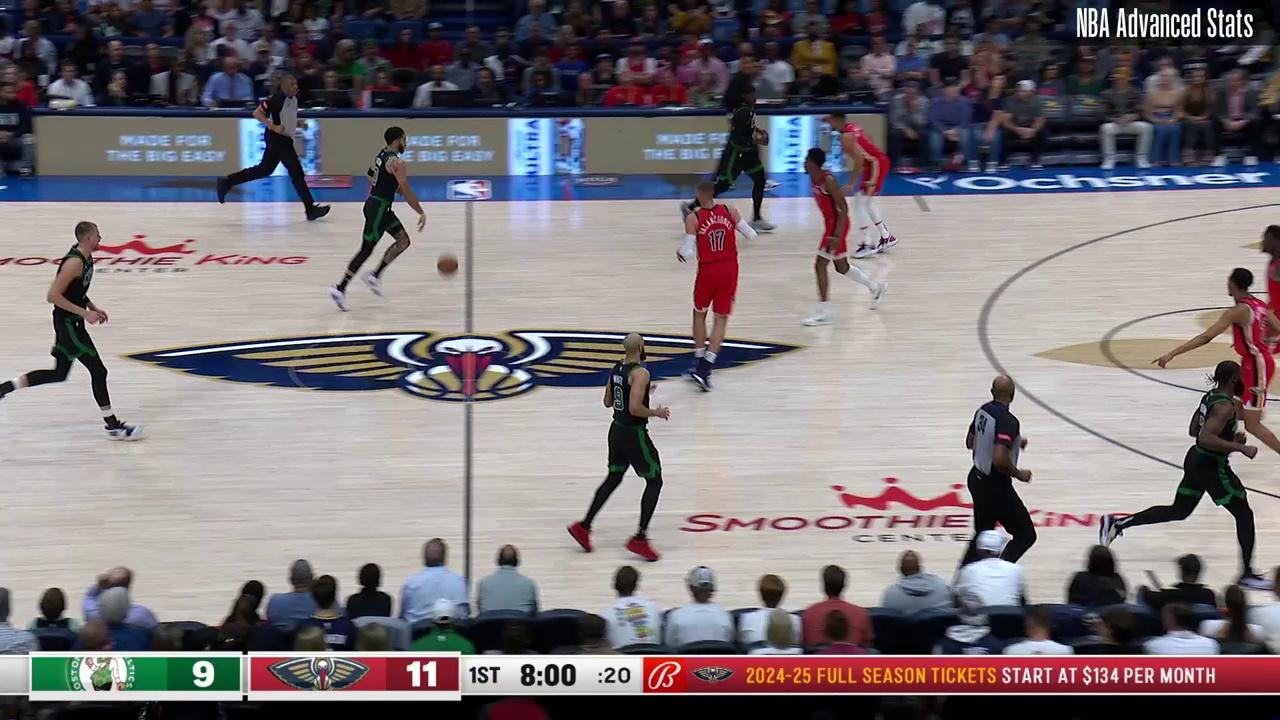half_sx: (460, 192, 480, 212)
mid_dx: (1140, 564, 1155, 577)
mid_sx: (919, 205, 932, 217)
referee: (213, 69, 330, 221), (955, 372, 1037, 586)
team: (1097, 361, 1274, 593), (0, 219, 147, 444), (568, 333, 668, 566), (328, 125, 428, 315), (684, 95, 775, 232)
team1: (1152, 264, 1280, 458), (677, 187, 759, 394), (805, 149, 889, 323), (825, 105, 898, 257)
timer: (510, 653, 584, 698)
